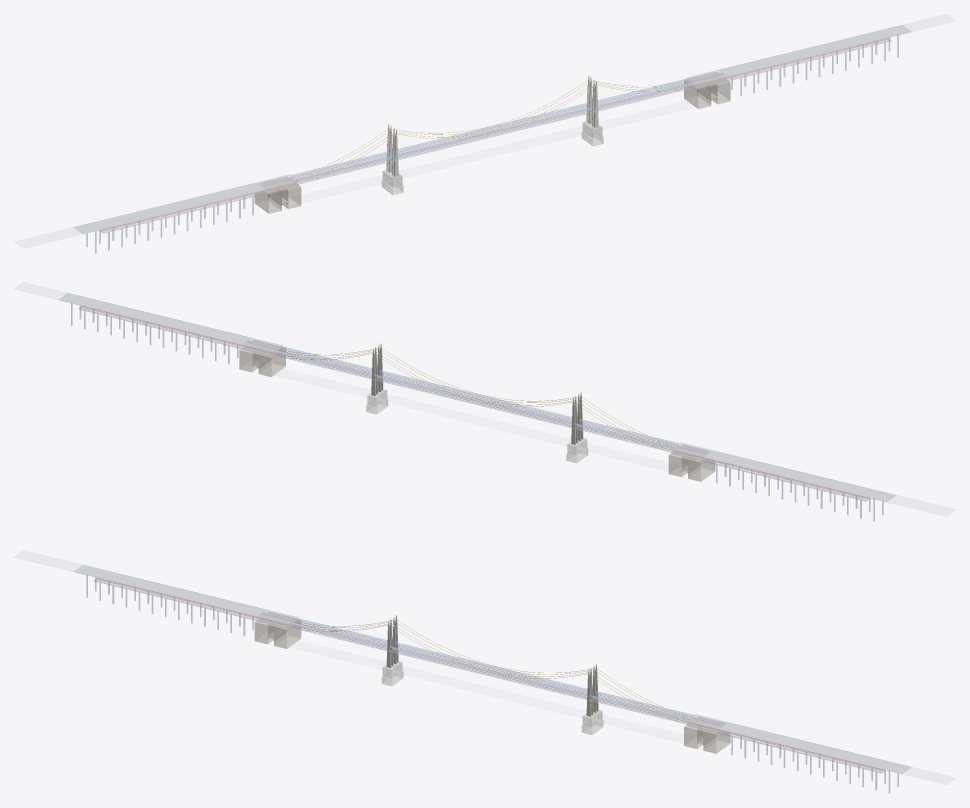
The model's file is control_skeleton_ho.glb.
The picture shows the model from 3 angles, top to bottom: view 1: azimuth 30°, elevation 25°; view 2: azimuth 150°, elevation 25°; view 3: azimuth 330°, elevation 25°; orthographic projection.
Parts seen in each view (by area): view 1: brooklyn_approach_upper_deck, manhattan_approach_upper_deck, brooklyn_anchorage, manhattan_anchorage, manhattan_approach_bents, brooklyn_approach_bents, brooklyn_approach_lower_deck, manhattan_approach_lower_deck, lower_roadway_envelope_main_span, footwalk_south, manhattan_approach, upper_roadway_manhattan_bound_main_span; view 2: brooklyn_approach_upper_deck, manhattan_approach_upper_deck, brooklyn_anchorage, manhattan_anchorage, brooklyn_approach_bents, manhattan_approach_bents, brooklyn_approach_lower_deck, manhattan_approach_lower_deck, lower_roadway_envelope_main_span, footwalk_north, upper_roadway_manhattan_bound_main_span, manhattan_approach; view 3: manhattan_approach_upper_deck, brooklyn_approach_upper_deck, manhattan_anchorage, brooklyn_anchorage, brooklyn_approach_bents, manhattan_approach_bents, manhattan_approach_lower_deck, brooklyn_approach_lower_deck, lower_roadway_envelope_main_span, footwalk_south, manhattan_approach.
Boxes of the visible parts, bbox=[...] form: brooklyn_approach_upper_deck: bbox=[687, 25, 910, 84]; manhattan_approach_upper_deck: bbox=[74, 174, 298, 233]; brooklyn_anchorage: bbox=[684, 72, 730, 108]; manhattan_anchorage: bbox=[254, 177, 301, 213]; manhattan_approach_bents: bbox=[86, 197, 253, 253]; brooklyn_approach_bents: bbox=[731, 28, 898, 96]; brooklyn_approach_lower_deck: bbox=[687, 38, 891, 88]; manhattan_approach_lower_deck: bbox=[99, 178, 298, 233]; lower_roadway_envelope_main_span: bbox=[398, 108, 592, 157]; footwalk_south: bbox=[298, 87, 695, 184]; manhattan_approach: bbox=[15, 227, 81, 248]; upper_roadway_manhattan_bound_main_span: bbox=[398, 102, 589, 150]; brooklyn_approach_upper_deck: bbox=[59, 293, 282, 352]; manhattan_approach_upper_deck: bbox=[671, 442, 895, 501]; brooklyn_anchorage: bbox=[239, 340, 285, 376]; manhattan_anchorage: bbox=[668, 445, 715, 481]; brooklyn_approach_bents: bbox=[71, 296, 238, 364]; manhattan_approach_bents: bbox=[716, 465, 883, 521]; brooklyn_approach_lower_deck: bbox=[78, 306, 282, 356]; manhattan_approach_lower_deck: bbox=[671, 446, 870, 501]; lower_roadway_envelope_main_span: bbox=[377, 376, 571, 425]; footwalk_north: bbox=[274, 355, 671, 452]; upper_roadway_manhattan_bound_main_span: bbox=[375, 374, 571, 424]; manhattan_approach: bbox=[888, 495, 954, 516]; manhattan_approach_upper_deck: bbox=[74, 565, 298, 624]; brooklyn_approach_upper_deck: bbox=[687, 714, 910, 773]; manhattan_anchorage: bbox=[254, 612, 301, 648]; brooklyn_anchorage: bbox=[684, 716, 730, 753]; brooklyn_approach_bents: bbox=[731, 737, 898, 793]; manhattan_approach_bents: bbox=[86, 568, 253, 636]; manhattan_approach_lower_deck: bbox=[94, 578, 297, 628]; brooklyn_approach_lower_deck: bbox=[687, 718, 885, 773]; lower_roadway_envelope_main_span: bbox=[393, 648, 587, 696]; footwalk_south: bbox=[290, 627, 686, 724]; manhattan_approach: bbox=[15, 551, 254, 614].
Size of the model in its own units: 23.99 by 1.55 by 0.6369.
